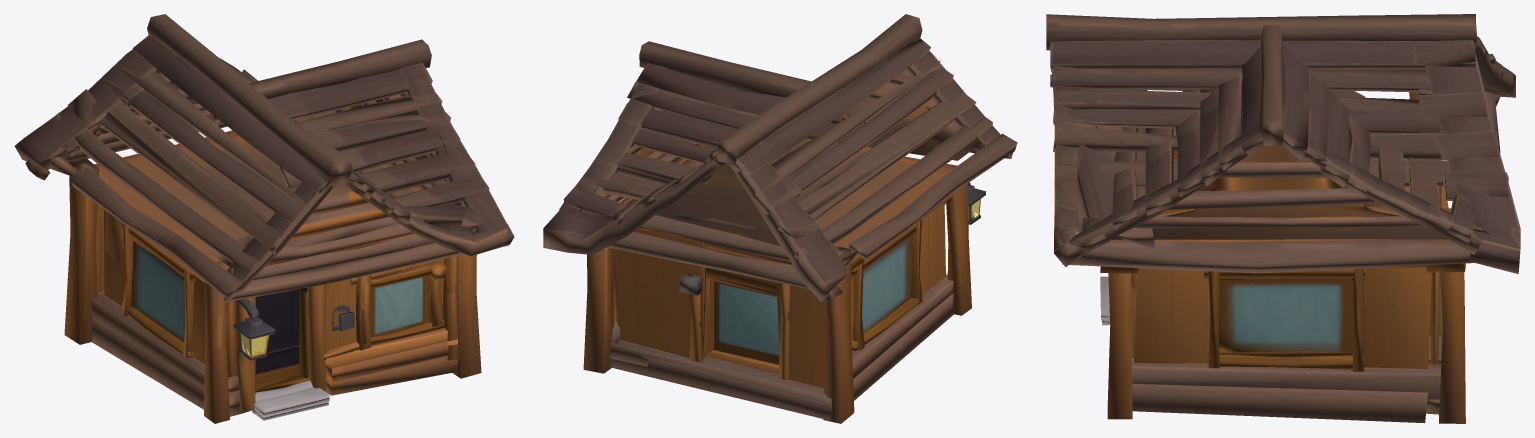
File: vivienda.glb
3 renders of one model, left to right at view 1: azimuth 30°, elevation 25°; view 2: azimuth 150°, elevation 25°; view 3: azimuth 270°, elevation 25°, orthographic. The views are drawn at different scales.
Size of the model in its own units: 1.67 by 1.49 by 2.
Materials: 1 (1 with a texture image).
